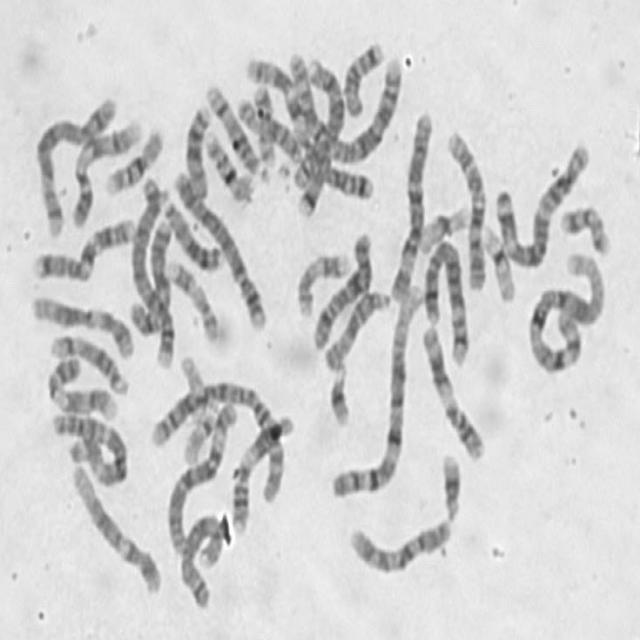A1: (326, 276, 426, 502), (522, 242, 610, 376)
A2: (146, 372, 289, 508), (291, 48, 405, 168)
A3: (491, 134, 592, 270), (48, 404, 129, 489)
B4: (170, 162, 270, 332), (128, 171, 179, 369)
B5: (30, 90, 120, 238), (420, 232, 473, 368)
C10: (442, 122, 490, 295), (345, 510, 455, 578)
C11: (417, 317, 489, 463), (229, 406, 297, 536)
C12: (68, 457, 164, 598), (27, 288, 138, 361)
C6: (164, 393, 240, 560), (387, 106, 437, 306)
C7: (246, 54, 346, 217), (28, 211, 136, 283)
C8: (288, 51, 347, 192), (177, 508, 226, 610)
C9: (68, 112, 147, 229), (42, 350, 121, 420)
D13: (156, 187, 224, 275), (181, 98, 213, 202)
D14: (203, 76, 265, 180), (47, 328, 131, 398)
D15: (321, 282, 393, 372), (232, 88, 306, 166)
E16: (103, 120, 166, 196), (201, 124, 257, 205)
E17: (164, 254, 222, 344), (292, 245, 351, 319)
E18: (340, 34, 386, 119), (313, 149, 372, 201)
F19: (415, 197, 472, 257), (477, 219, 517, 304)
F20: (556, 198, 613, 258), (249, 79, 277, 176)
G21: (437, 445, 464, 523), (326, 358, 352, 428)
G22: (178, 398, 220, 466), (177, 349, 210, 420)
X: (309, 224, 375, 353), (125, 209, 176, 341)
